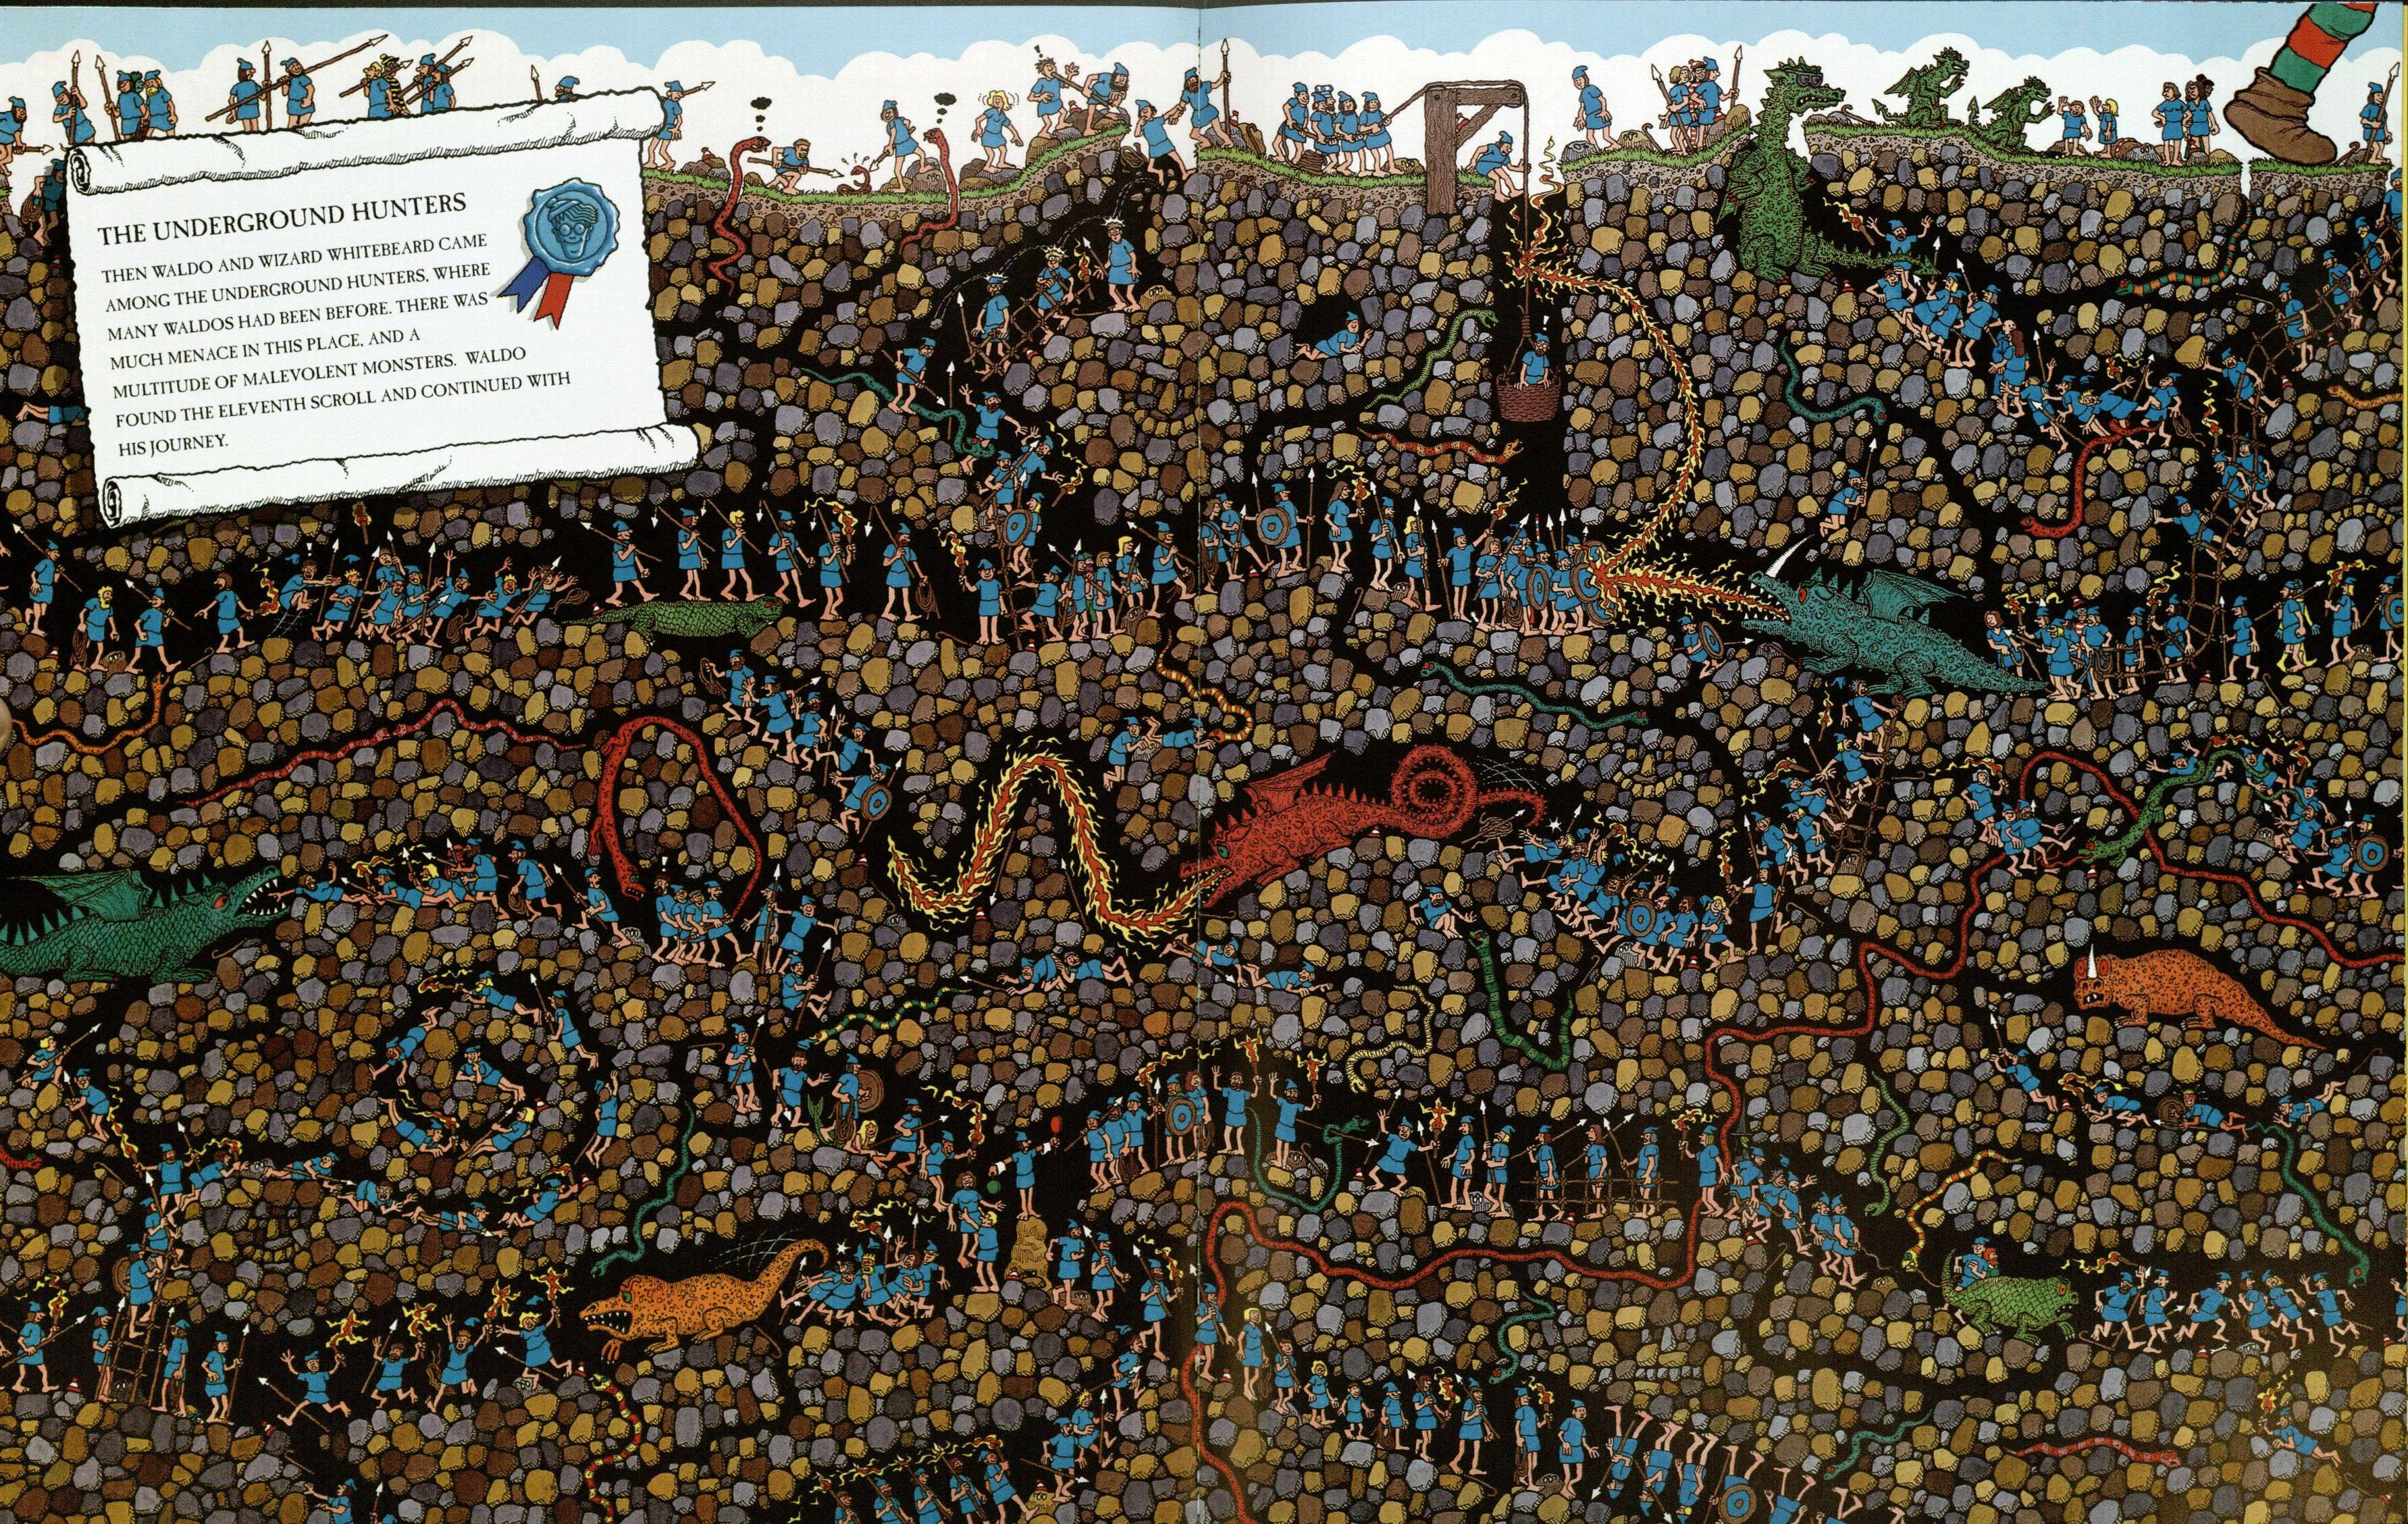Waldo: (2069, 593, 2092, 637)
